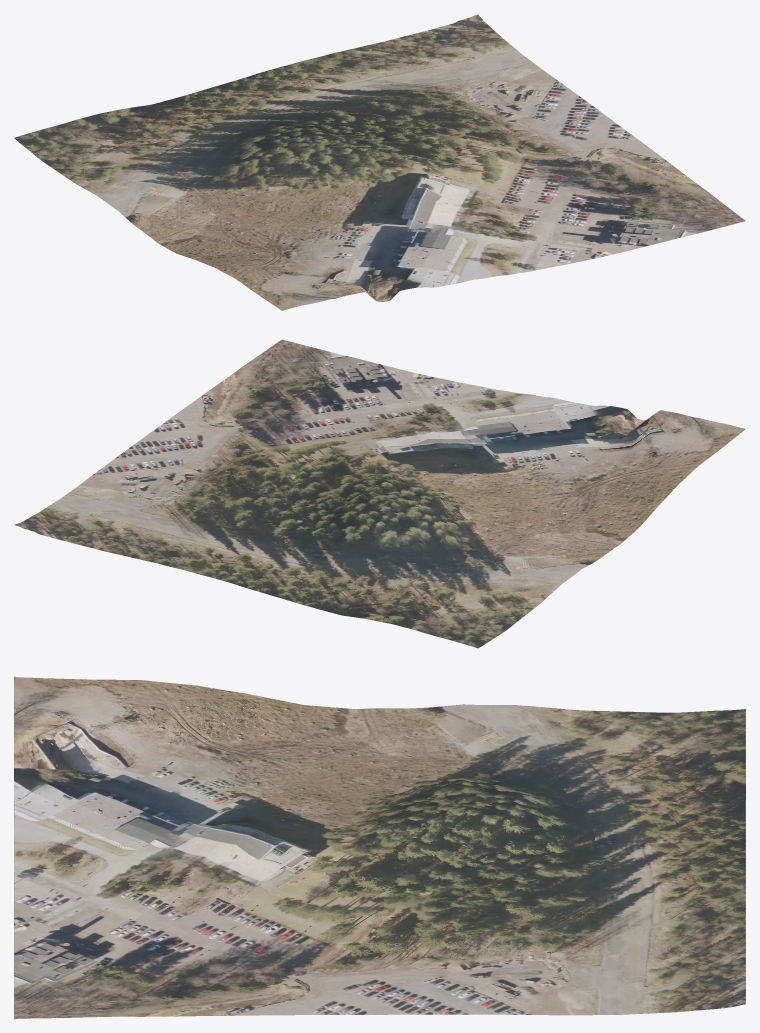
Rendered from CM_Terrain_24490254_6822046.fbx.
3 renders of one model, top to bottom at view 1: azimuth 30°, elevation 25°; view 2: azimuth 150°, elevation 25°; view 3: azimuth 270°, elevation 25°, orthographic. The views are drawn at different scales.
Parts seen in each view (by area): view 1: CM_Terrain_24490254_6822046_LOD0; view 2: CM_Terrain_24490254_6822046_LOD0; view 3: CM_Terrain_24490254_6822046_LOD0.
Part boxes in pixels (box(x1,y1,x2,y2)): CM_Terrain_24490254_6822046_LOD0: box(14, 14, 745, 310); CM_Terrain_24490254_6822046_LOD0: box(14, 339, 745, 648); CM_Terrain_24490254_6822046_LOD0: box(14, 677, 745, 1018).
Size of what is drawn, in the model's own units: 205 by 11.6 by 205.
